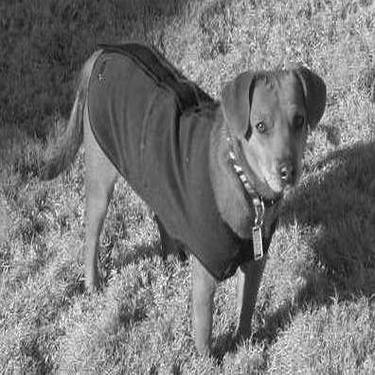dog: (31, 31, 330, 365)
